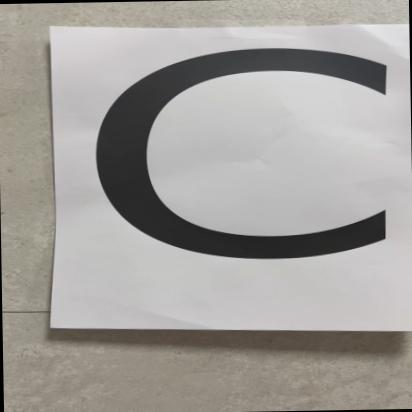seat: (55, 18, 406, 331)
